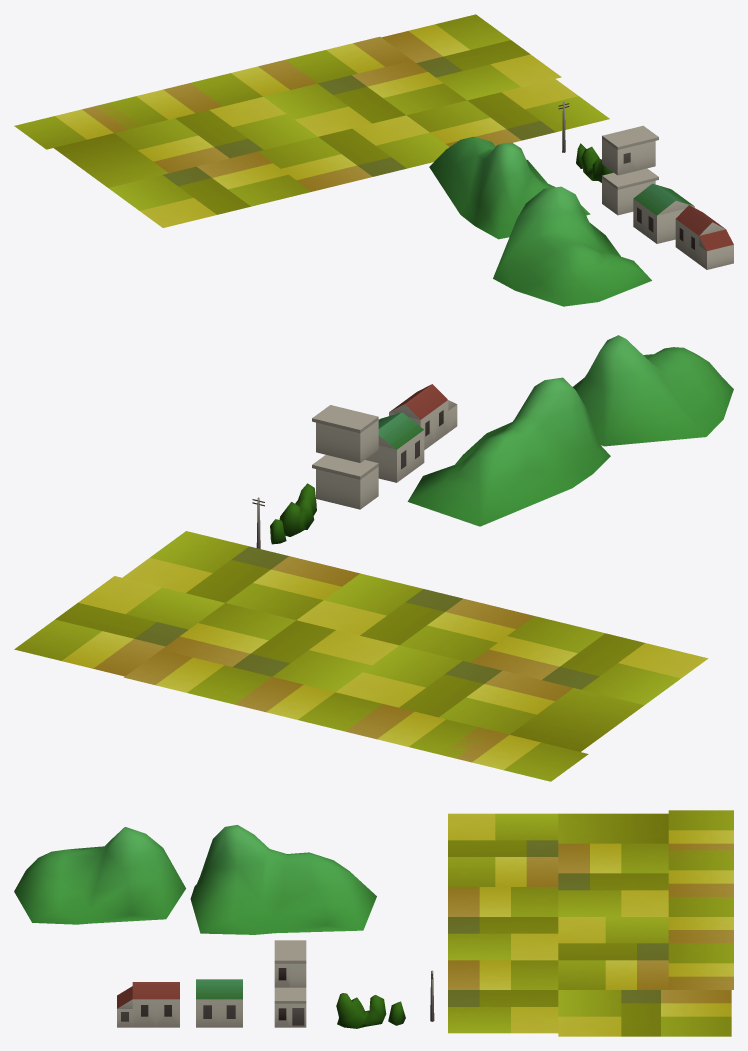
The model's file is RAC_Vistas.fbx.
3 renders of one model, top to bottom at view 1: azimuth 30°, elevation 25°; view 2: azimuth 150°, elevation 25°; view 3: azimuth 270°, elevation 25°, orthographic. The views are drawn at different scales.
Visible parts, largest first — view 1: SM_Vista_Fields, SM_Vista_MounTain, SM_Vista_ElectricPole, SM_Vista_Building.004, SM_Vista_Building, SM_Vista_Building.003, SM_Vista_Building.001, SM_Vista_ElectricPole.001, Icosphere.002; view 2: SM_Vista_Fields, SM_Vista_ElectricPole, SM_Vista_MounTain, SM_Vista_Building, SM_Vista_Building.003, SM_Vista_Building.004, SM_Vista_Building.001, Icosphere.002; view 3: SM_Vista_Fields, SM_Vista_ElectricPole, SM_Vista_MounTain, SM_Vista_Building.004, SM_Vista_Building.001, Icosphere.002, SM_Vista_Building, SM_Vista_Building.003, SM_Vista_ElectricPole.001.
Part boxes in pixels (left/top/right/bottom): SM_Vista_Fields: left=14, top=14, right=609, bottom=227; SM_Vista_MounTain: left=493, top=186, right=651, bottom=306; SM_Vista_ElectricPole: left=429, top=136, right=590, bottom=239; SM_Vista_Building.004: left=633, top=183, right=694, bottom=243; SM_Vista_Building: left=602, top=125, right=658, bottom=175; SM_Vista_Building.003: left=602, top=168, right=658, bottom=215; SM_Vista_Building.001: left=675, top=205, right=725, bottom=263; SM_Vista_ElectricPole.001: left=699, top=229, right=733, bottom=269; Icosphere.002: left=576, top=143, right=613, bottom=182; SM_Vista_Fields: left=14, top=531, right=708, bottom=781; SM_Vista_ElectricPole: left=407, top=377, right=610, bottom=526; SM_Vista_MounTain: left=573, top=335, right=733, bottom=446; SM_Vista_Building: left=312, top=405, right=378, bottom=462; SM_Vista_Building.003: left=312, top=455, right=378, bottom=509; SM_Vista_Building.004: left=365, top=412, right=424, bottom=482; SM_Vista_Building.001: left=389, top=384, right=448, bottom=449; Icosphere.002: left=270, top=483, right=316, bottom=544; SM_Vista_Fields: left=448, top=810, right=733, bottom=1036; SM_Vista_ElectricPole: left=190, top=825, right=376, bottom=934; SM_Vista_MounTain: left=14, top=827, right=185, bottom=924; SM_Vista_Building.004: left=196, top=979, right=242, bottom=1027; SM_Vista_Building.001: left=132, top=982, right=179, bottom=1027; Icosphere.002: left=336, top=993, right=405, bottom=1028; SM_Vista_Building: left=274, top=940, right=306, bottom=987; SM_Vista_Building.003: left=274, top=987, right=306, bottom=1027; SM_Vista_ElectricPole.001: left=117, top=986, right=132, bottom=1027.
Size of the model in its own units: 34 by 8.41 by 45.68.
